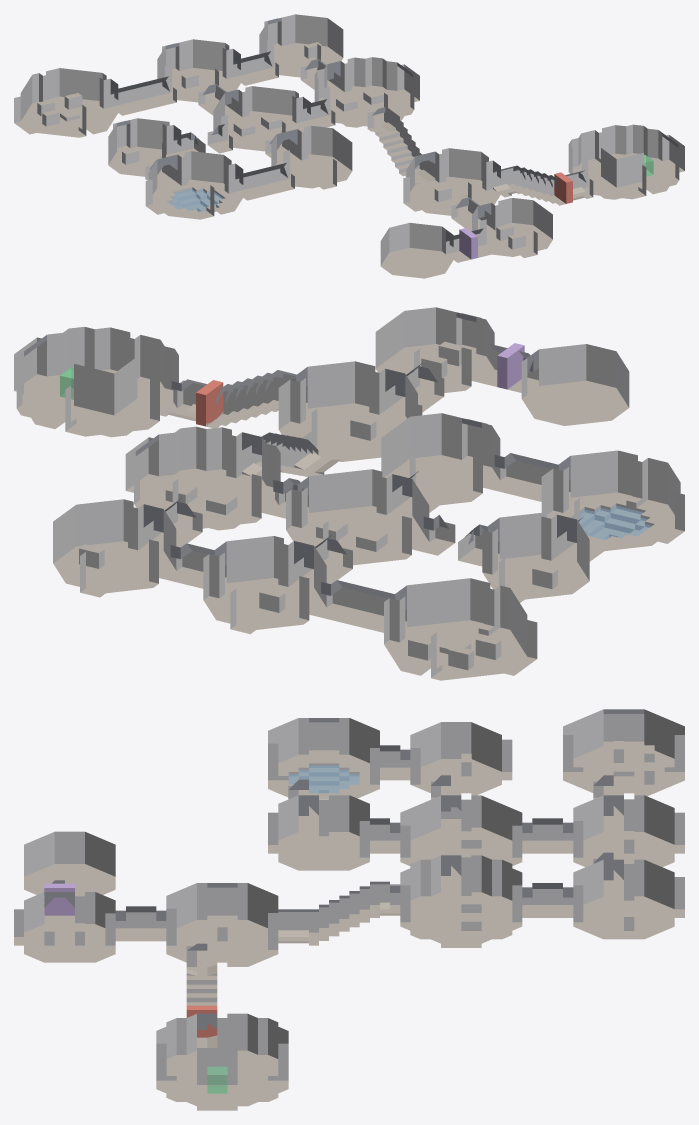
Rendered from station_8_tree_mining.glb.
The picture shows the model from 3 angles, top to bottom: view 1: azimuth 30°, elevation 25°; view 2: azimuth 150°, elevation 25°; view 3: azimuth 270°, elevation 25°; orthographic projection. The views are drawn at different scales.
Parts seen in each view (by area): view 1: room:6, room:4, room:2, room:3, room:7, room:1, room:11, room:9, room:0, room:8, room:5, room:10 (+27 smaller); view 2: room:6, room:4, room:2, room:1, room:3, room:7, room:5, room:11, room:0, room:9, room:8, room:10 (+34 smaller); view 3: room:4, room:2, room:6, room:3, room:7, room:1, room:0, room:10, room:5, room:11, room:9, room:8 (+25 smaller).
Boxes of the visible parts, box(x1,y1,x2,y2) form: room:6: box(20, 68, 118, 137); room:4: box(568, 124, 679, 199); room:2: box(314, 57, 414, 127); room:3: box(406, 148, 500, 216); room:7: box(259, 14, 343, 78); room:1: box(213, 86, 310, 151); room:11: box(380, 222, 453, 278); room:9: box(148, 151, 243, 219); room:0: box(271, 125, 352, 188); room:8: box(472, 198, 552, 256); room:5: box(157, 39, 240, 102); room:10: box(108, 118, 181, 176); room:6: box(384, 578, 527, 680); room:4: box(16, 326, 178, 437); room:2: box(134, 426, 280, 530); room:1: box(286, 469, 429, 566); room:3: box(278, 361, 417, 461); room:7: box(53, 499, 176, 593); room:5: box(203, 536, 326, 629); room:11: box(521, 344, 629, 425); room:0: box(381, 413, 500, 505); room:9: box(541, 450, 680, 551); room:8: box(375, 307, 494, 393); room:10: box(482, 512, 589, 599); room:4: box(156, 1013, 288, 1106); room:2: box(400, 855, 522, 943); room:6: box(563, 709, 684, 796); room:3: box(166, 883, 278, 966); room:7: box(573, 859, 674, 939); room:1: box(400, 795, 522, 879); room:0: box(278, 795, 369, 870); room:10: box(410, 722, 501, 795); room:5: box(573, 795, 674, 874); room:11: box(24, 831, 115, 896); room:9: box(268, 718, 379, 798); room:8: box(24, 892, 115, 962).
Size of the model in its own units: 73 by 10 by 66.
